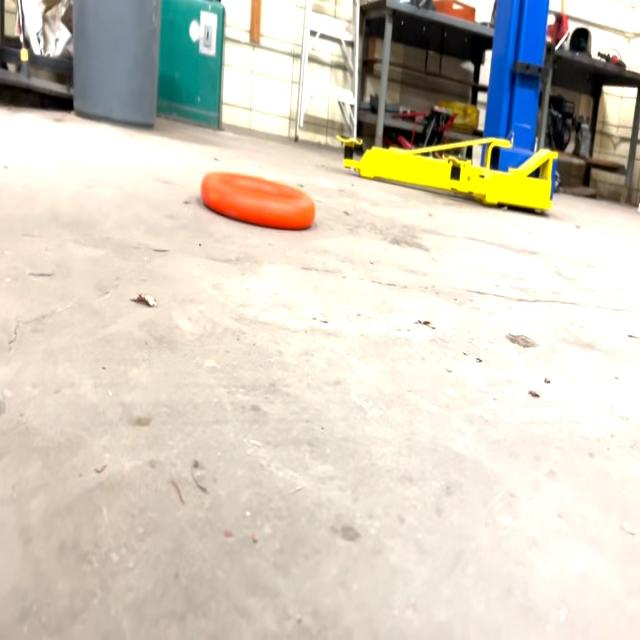note: (200, 159, 316, 236)
